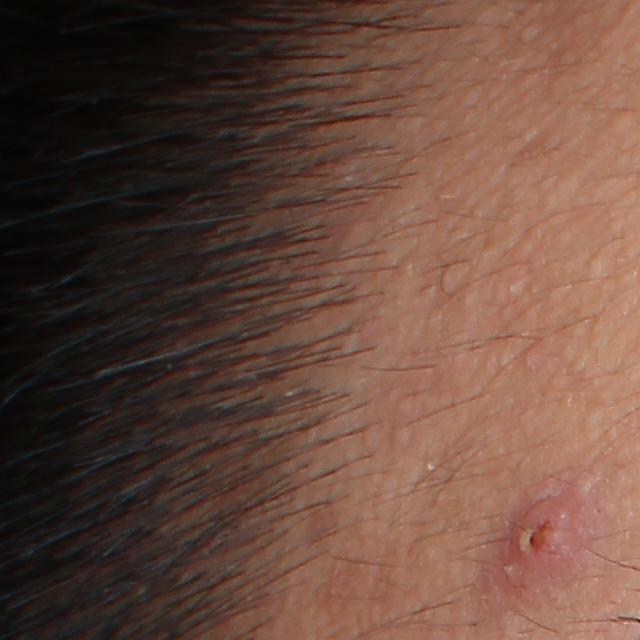comedo: (609, 109, 634, 134), (501, 279, 525, 301), (517, 23, 540, 44)
papule: (488, 476, 603, 591)
